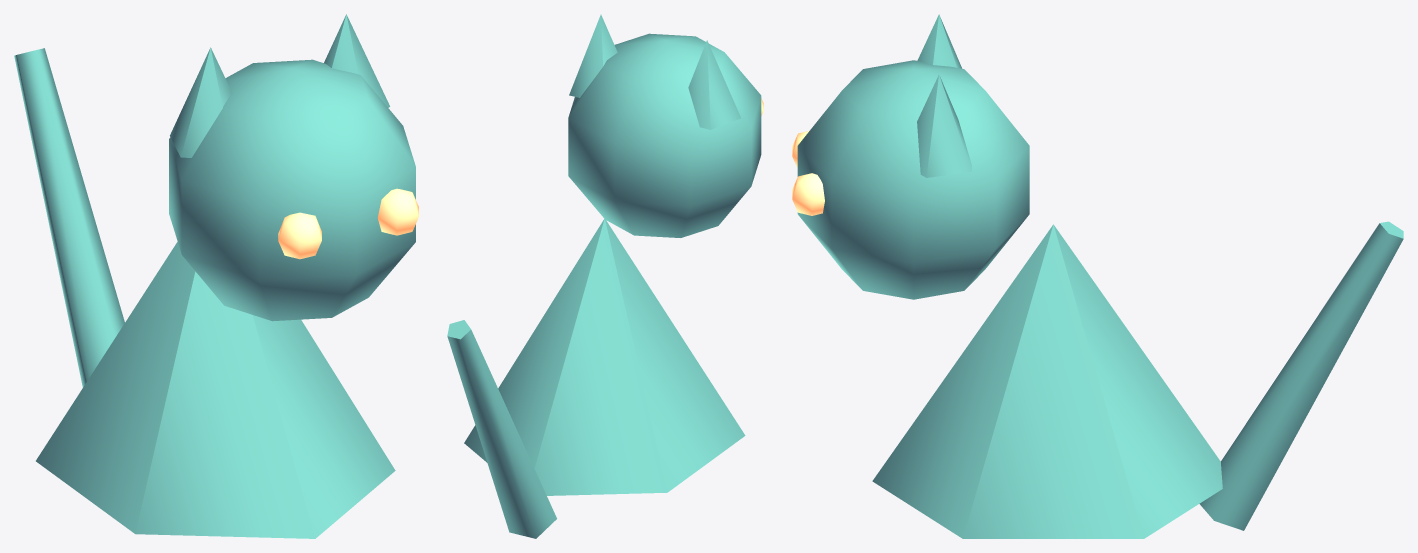
File: reinforced_spirit_rat.glb
3 views of the same model, side by side, from view 1: azimuth 30°, elevation 25°; view 2: azimuth 150°, elevation 25°; view 3: azimuth 270°, elevation 25° (orthographic). The views are drawn at different scales.
Parts seen in each view (by area): view 1: body, head, tail, ear_r, ear_l, eye_r, eye_l; view 2: body, head, tail, ear_r, ear_l; view 3: body, head, tail, ear_l, ear_r, eye_l.
Boxes of the visible parts, x1,y1,x2,y2 form: body: [36, 242, 395, 538]; head: [169, 59, 415, 321]; tail: [14, 48, 124, 387]; ear_r: [170, 47, 231, 157]; ear_l: [324, 14, 389, 107]; eye_r: [278, 212, 321, 259]; eye_l: [377, 188, 418, 235]; body: [464, 218, 745, 495]; head: [568, 33, 761, 237]; tail: [447, 320, 556, 538]; ear_r: [688, 40, 740, 129]; ear_l: [569, 14, 617, 97]; body: [872, 224, 1222, 538]; head: [797, 60, 1029, 299]; tail: [1199, 221, 1403, 530]; ear_l: [917, 74, 971, 177]; ear_r: [917, 14, 961, 68]; eye_l: [792, 173, 824, 215].
Bounding box in the file's own units: 1.16 × 2.25 × 2.6.
